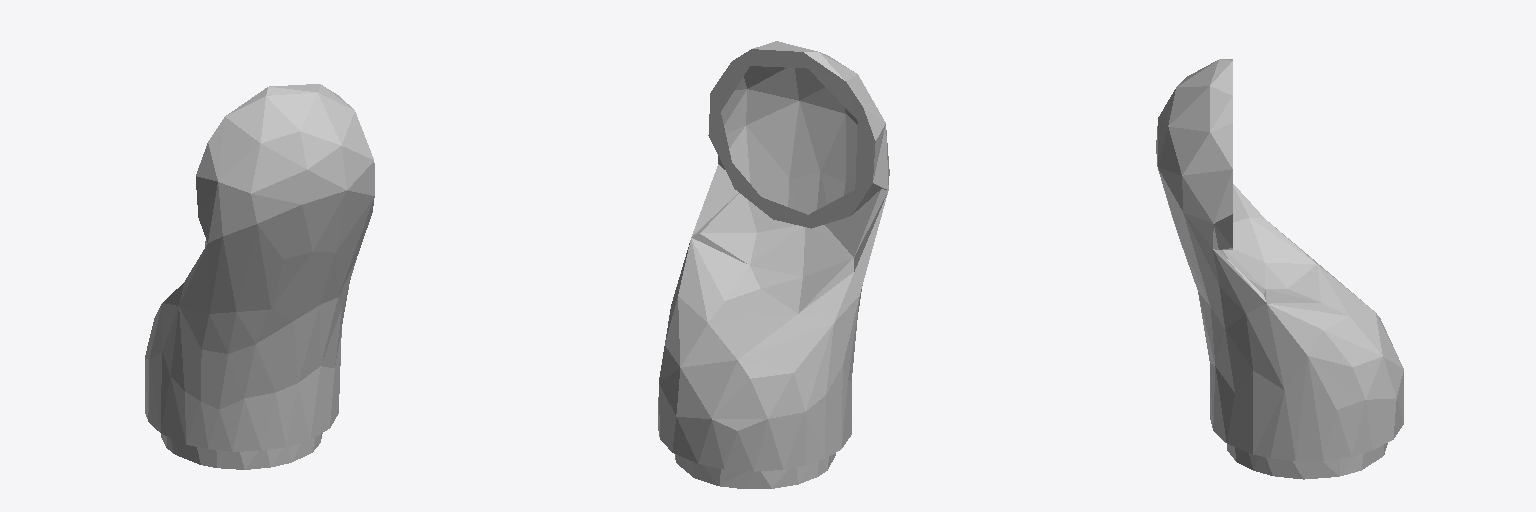
Rendered from col-kuka-link5.obj.
3 renders of one model, left to right at view 1: azimuth 30°, elevation 25°; view 2: azimuth 150°, elevation 25°; view 3: azimuth 270°, elevation 25°, orthographic.
Bounding box in the file's own units: 121 × 259 × 154.